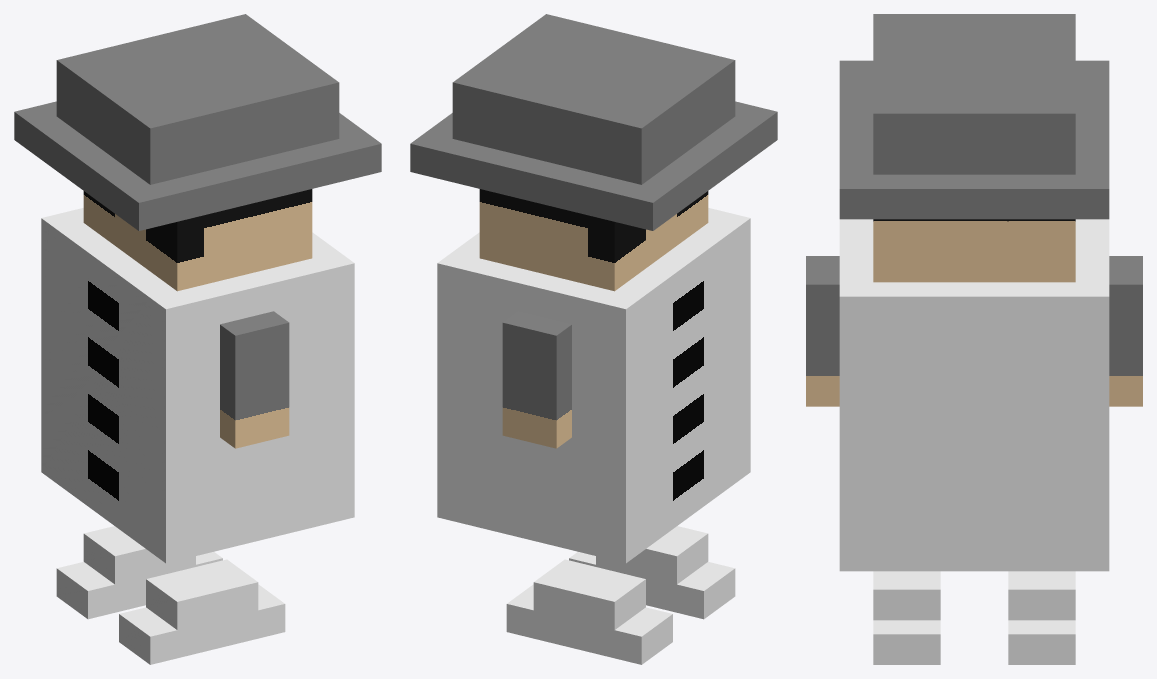
The model's file is Player_6.fbx.
3 renders of one model, left to right at view 1: azimuth 30°, elevation 25°; view 2: azimuth 150°, elevation 25°; view 3: azimuth 270°, elevation 25°, orthographic. The views are drawn at different scales.
Visible parts, largest first — view 1: Main, LeftFoot, LeftHand, RightFoot; view 2: Main, RightFoot, RightHand, LeftFoot; view 3: Main, LeftFoot, RightFoot, RightHand, LeftHand.
Boxes of the visible parts, x1,y1,x2,y2 form: Main: (14,14,381,563); LeftFoot: (119,559,285,664); LeftHand: (220,311,289,448); RightFoot: (56,526,222,619); Main: (410,14,777,563); RightFoot: (506,559,672,664); RightHand: (502,311,571,448); LeftFoot: (569,526,735,619); Main: (839,14,1109,571); LeftFoot: (873,571,940,664); RightFoot: (1008,571,1075,664); RightHand: (1109,256,1142,406); LeftHand: (806,256,839,406).
Size of the model in its own units: 9 by 19 by 10.
1 material, 1 textured.
